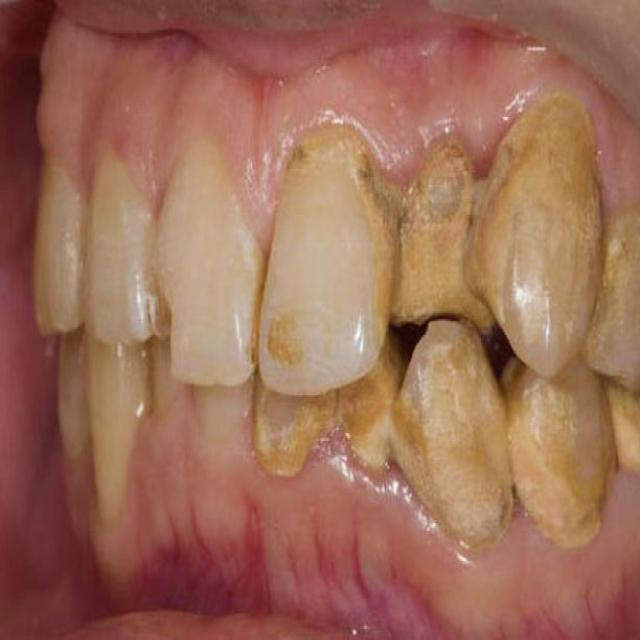caries: (141, 270, 190, 360)
